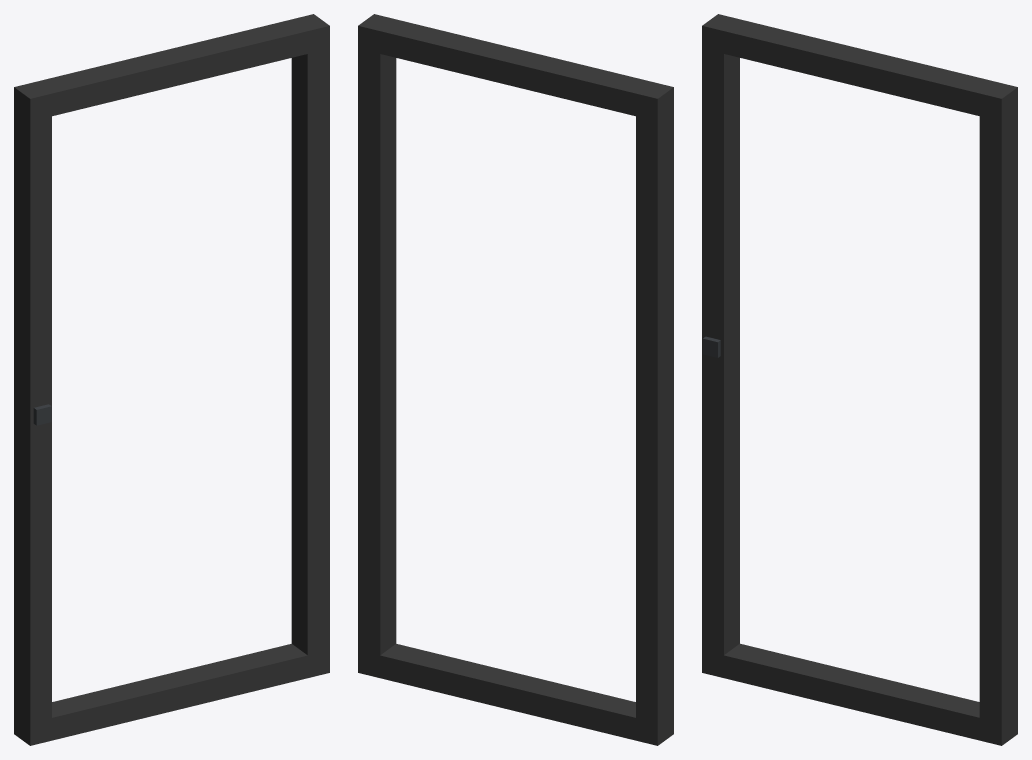
File: Window6_02_2.fbx
3 views of the same model, side by side, from view 1: azimuth 30°, elevation 25°; view 2: azimuth 150°, elevation 25°; view 3: azimuth 330°, elevation 25° (orthographic).
Parts seen in each view (by area): view 1: Window6_02_2; view 2: Window6_02_2; view 3: Window6_02_2.
Boxes of the visible parts, <box> form: Window6_02_2: <box>14,14,329,745</box>; Window6_02_2: <box>358,14,673,745</box>; Window6_02_2: <box>702,14,1017,745</box>.
Bounding box in the file's own units: 55.1 × 114 × 6.04.
